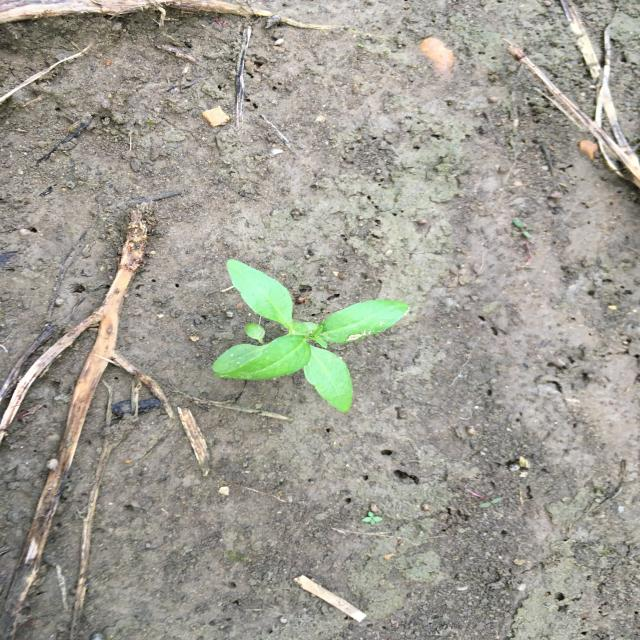Eclipta: (210, 258, 412, 414)
